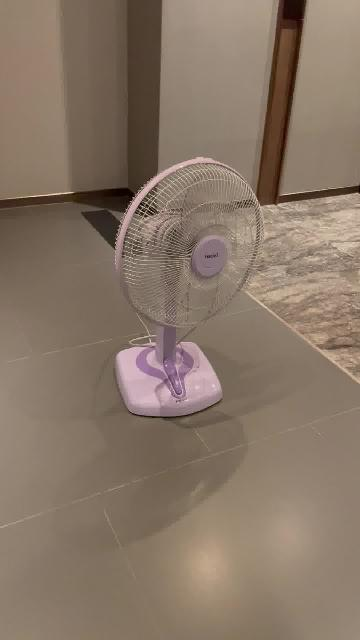Fan: (115, 157, 264, 419)
